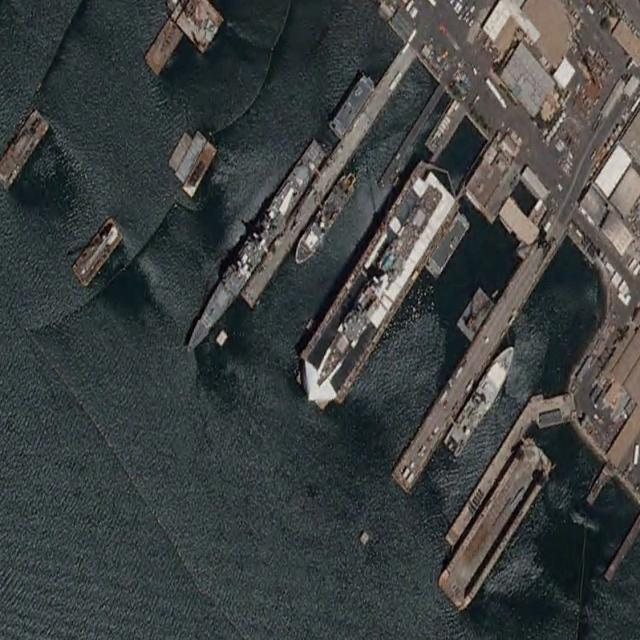Cruiser: (180, 135, 329, 363)
Other Ship: (311, 177, 444, 397), (443, 334, 521, 461), (290, 164, 360, 272)
